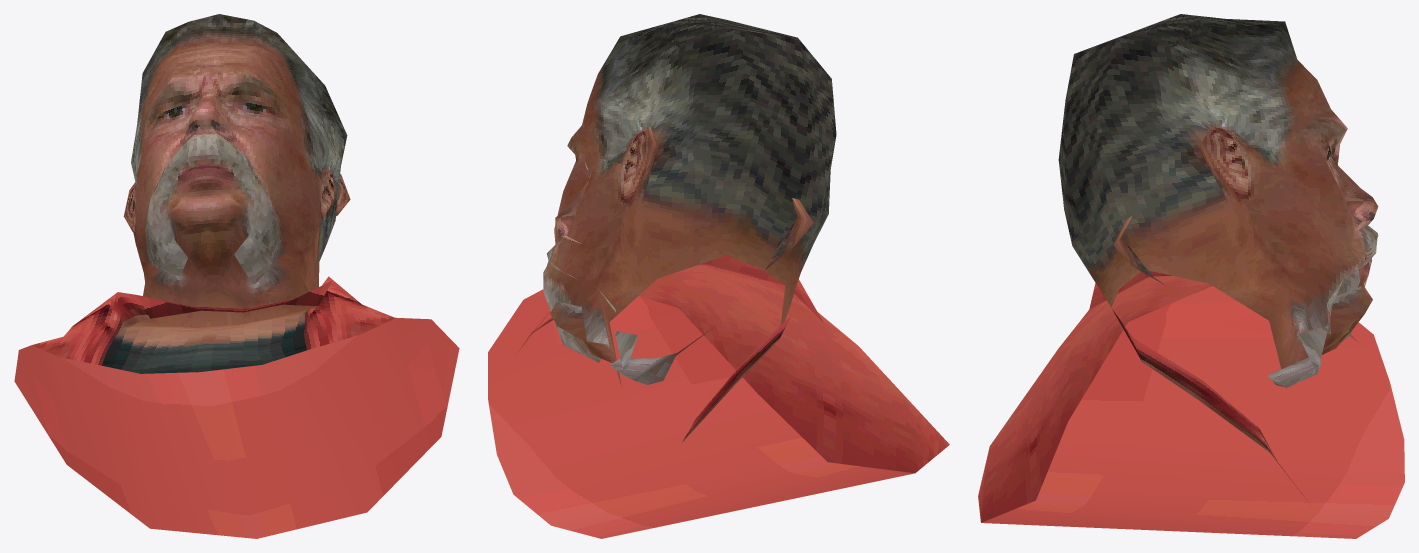
The model's file is ps2_save-icons_americanchopper2fullthrottle.glb.
3 views of the same model, side by side, from view 1: azimuth 30°, elevation 25°; view 2: azimuth 150°, elevation 25°; view 3: azimuth 270°, elevation 25° (orthographic). The views are drawn at different scales.
Visible parts, largest first — view 1: game.ico; view 2: game.ico; view 3: game.ico.
Boxes of the visible parts, left/top/right/bottom form: game.ico: left=14, top=14, right=459, bottom=538; game.ico: left=488, top=14, right=949, bottom=538; game.ico: left=978, top=14, right=1404, bottom=538.
Bounding box in the file's own units: 3.52 × 3.91 × 3.02.
Materials: 1 (1 with a texture image).
